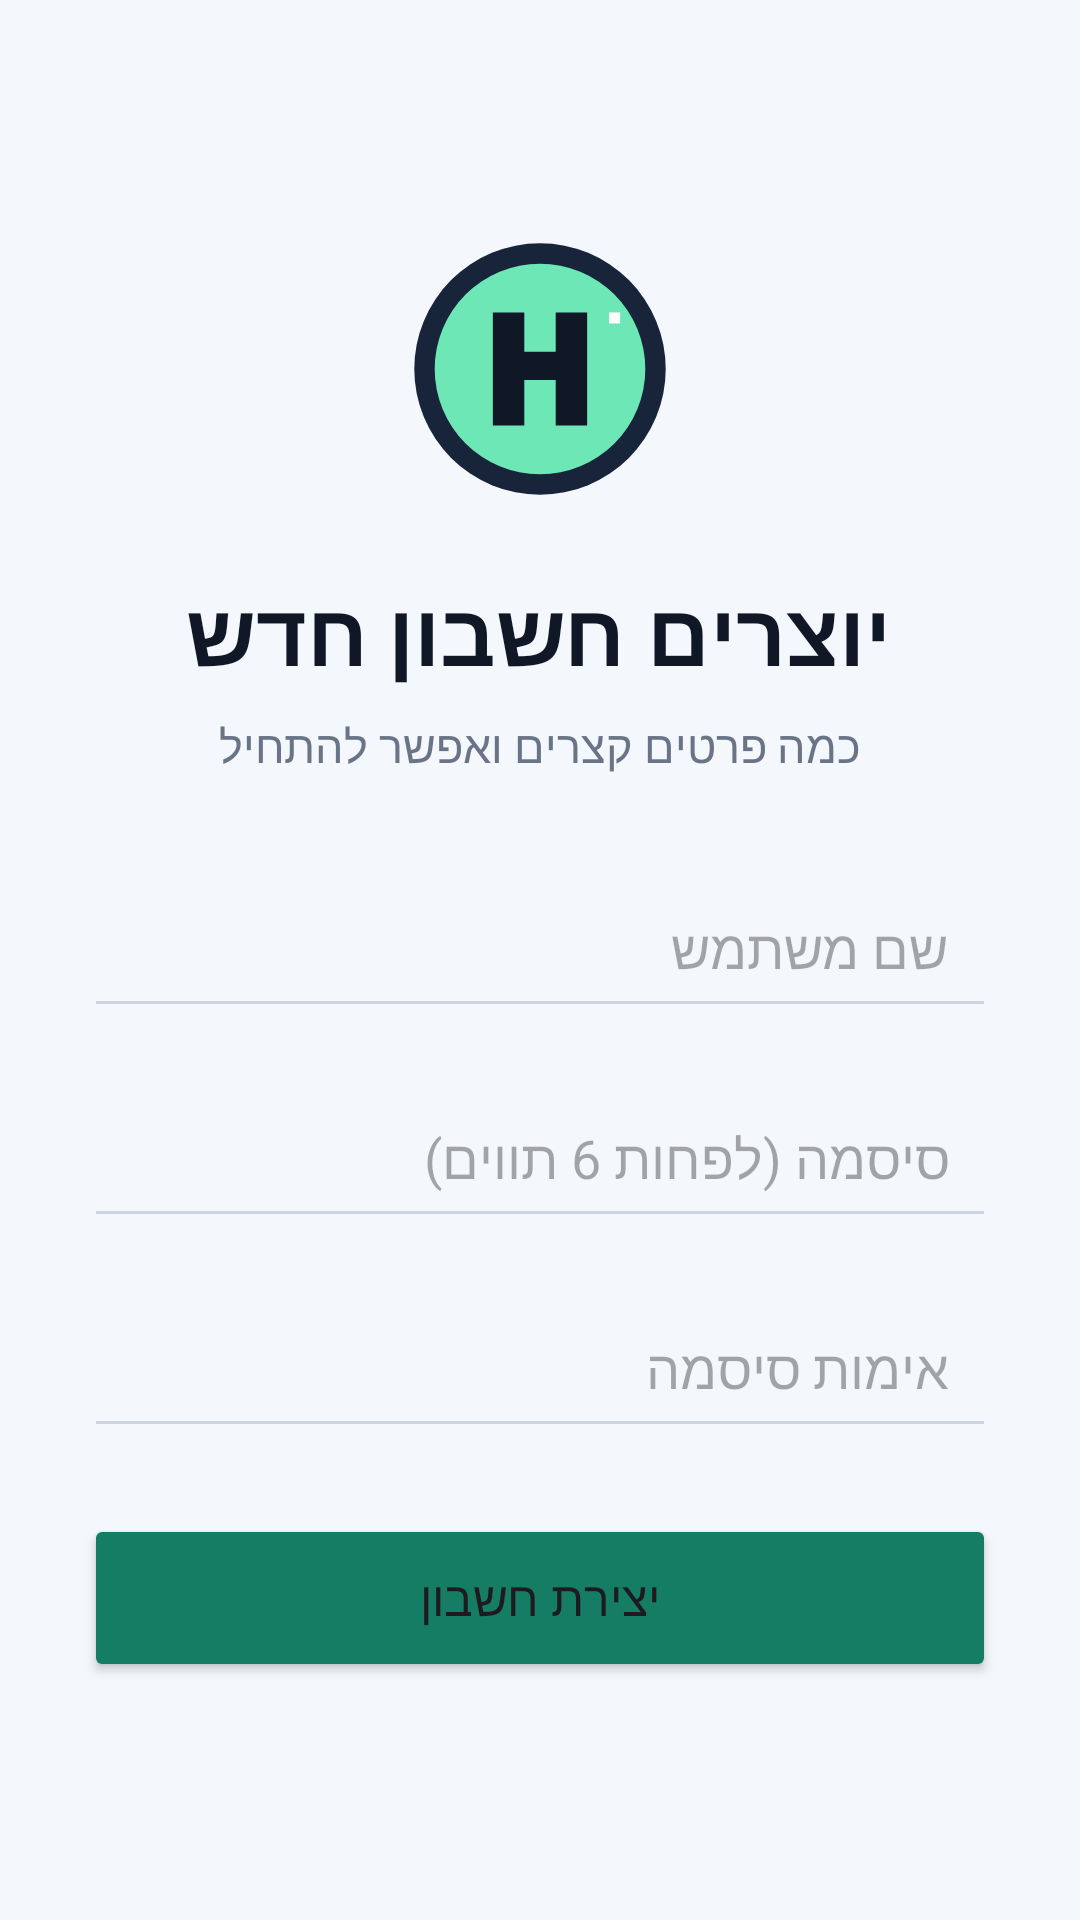

Point at icon controls on the screen. Image size 1080*1920, points as (x,y).
סמל האפליקציה: (540,369)
